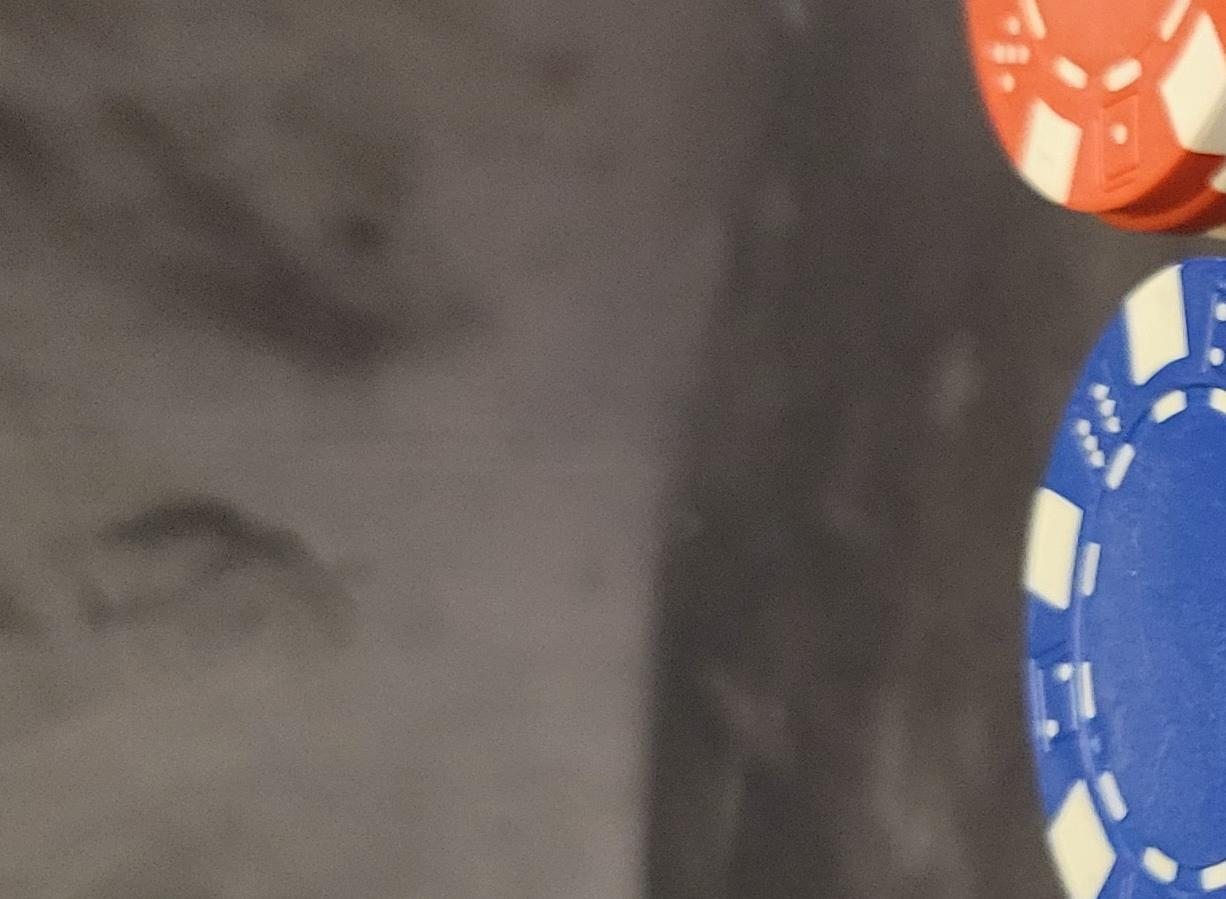Chip: (1, 348, 884, 899)
